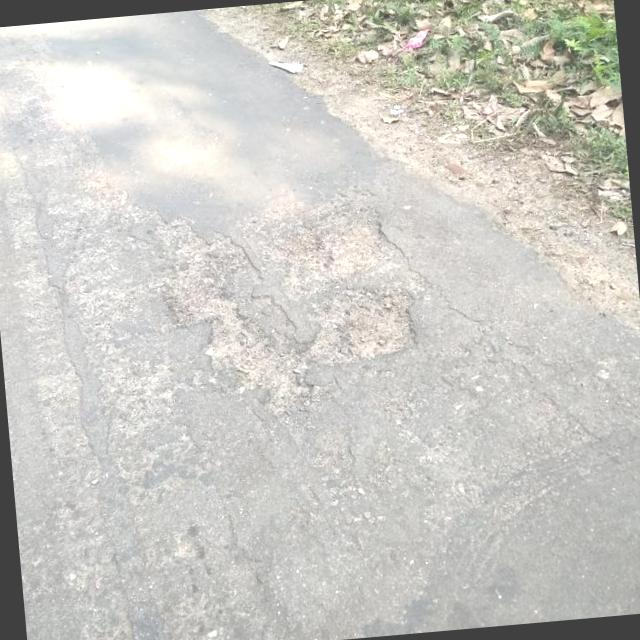pothole: (144, 190, 442, 428)
